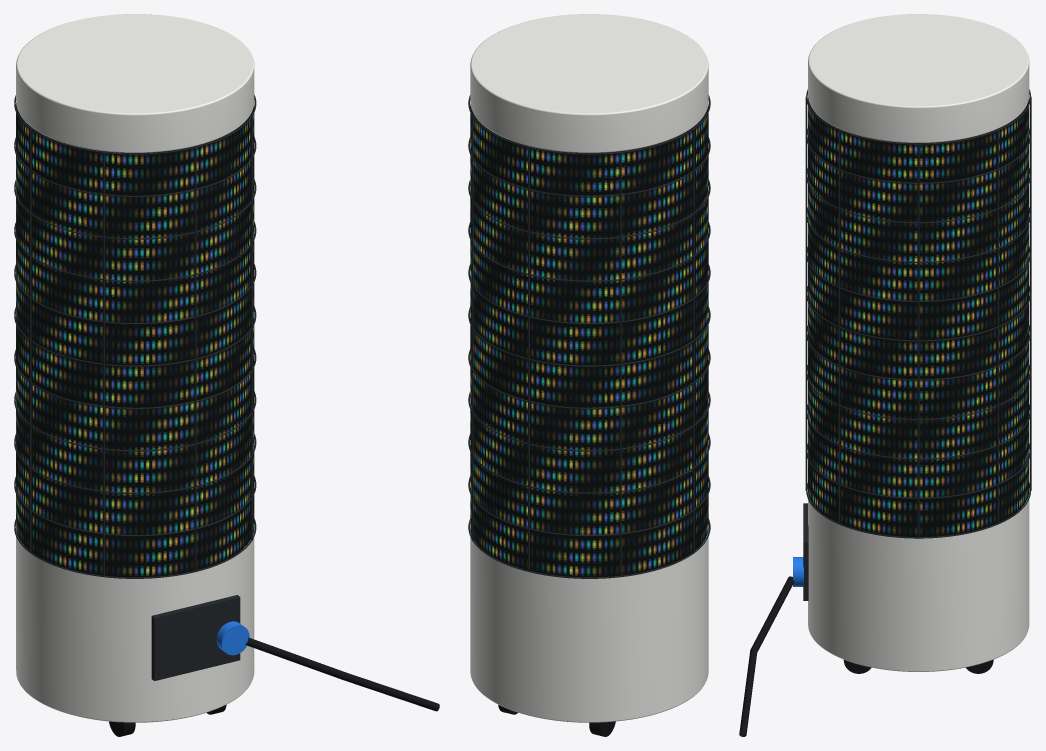
File: signage-cylinder.glb
3 views of the same model, side by side, from view 1: azimuth 30°, elevation 25°; view 2: azimuth 150°, elevation 25°; view 3: azimuth 270°, elevation 25° (orthographic). The views are drawn at different scales.
Parts seen in each view (by area): view 1: cylinder LED display front, cylinder lower enclosure, cylinder top cap, cylinder LED display rear, cylinder service hatch, cylinder power cable, cylinder vertical module seam 4, cylinder vertical module seam 6, cylinder waterproof power connector, cylinder vertical module seam 5, cylinder vertical module seam 7; view 2: cylinder LED display rear, cylinder lower enclosure, cylinder top cap, cylinder LED display front, cylinder vertical module seam 1, cylinder vertical module seam 2, cylinder vertical module seam 3, cylinder vertical module seam 4, cylinder horizontal module seam 4, cylinder horizontal module seam 1, cylinder horizontal module seam 9, cylinder horizontal module seam 10 (+7 smaller); view 3: cylinder LED display rear, cylinder LED display front, cylinder lower enclosure, cylinder top cap, cylinder power cable, cylinder vertical module seam 0, cylinder vertical module seam 7, cylinder vertical module seam 6, cylinder vertical module seam 1, cylinder vertical module seam 2, cylinder horizontal module seam 10, cylinder horizontal module seam 6 (+10 smaller).
Part boxes in pixels (x1,y1,x2,y2): cylinder LED display front: (32, 105, 254, 577); cylinder lower enclosure: (16, 528, 254, 722); cylinder top cap: (16, 14, 254, 152); cylinder LED display rear: (16, 103, 32, 551); cylinder service hatch: (151, 595, 240, 680); cylinder power cable: (245, 637, 439, 711); cylinder vertical module seam 4: (29, 129, 31, 553); cylinder vertical module seam 6: (194, 147, 196, 571); cylinder waterproof power connector: (216, 621, 249, 655); cylinder vertical module seam 5: (103, 152, 104, 576); cylinder vertical module seam 7: (251, 116, 252, 540); cylinder LED display rear: (470, 104, 692, 577); cylinder lower enclosure: (470, 530, 708, 722); cylinder top cap: (470, 14, 708, 152); cylinder LED display front: (692, 104, 708, 551); cylinder vertical module seam 1: (471, 116, 473, 540); cylinder vertical module seam 2: (528, 147, 529, 571); cylinder vertical module seam 3: (620, 152, 621, 576); cylinder vertical module seam 4: (693, 129, 694, 553); cylinder horizontal module seam 4: (468, 349, 710, 409); cylinder horizontal module seam 1: (468, 476, 710, 536); cylinder horizontal module seam 9: (468, 137, 710, 197); cylinder horizontal module seam 10: (468, 95, 710, 154); cylinder LED display rear: (918, 98, 1029, 536); cylinder LED display front: (808, 97, 918, 536); cylinder lower enclosure: (808, 493, 1029, 671); cylinder top cap: (808, 14, 1029, 142); cylinder power cable: (739, 576, 794, 736); cylinder vertical module seam 0: (917, 144, 919, 538); cylinder vertical module seam 7: (838, 130, 840, 524); cylinder vertical module seam 6: (805, 97, 807, 490); cylinder vertical module seam 1: (997, 130, 998, 524); cylinder vertical module seam 2: (1030, 96, 1031, 490); cylinder horizontal module seam 10: (806, 89, 1030, 144); cylinder horizontal module seam 6: (806, 246, 1030, 302).
Size of the model in its own units: 1.24 by 2.4 by 1.08.
5 materials, 1 textured.
